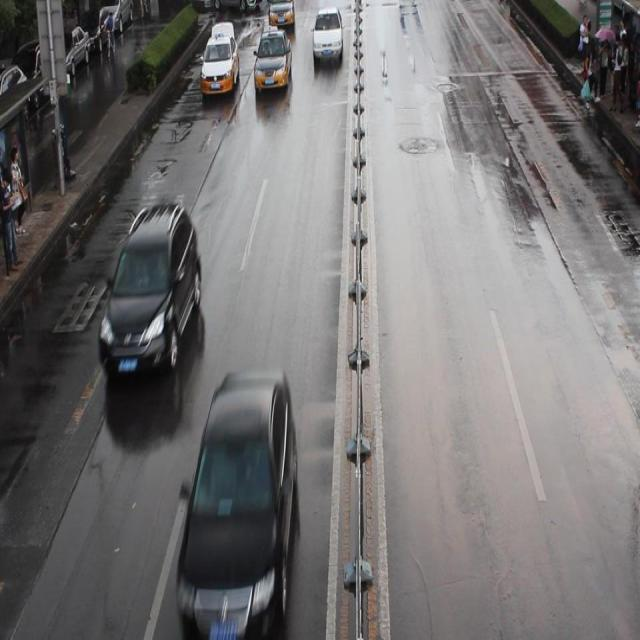car: (175, 367, 298, 634), (99, 203, 202, 380), (199, 36, 239, 97), (253, 27, 291, 89), (310, 8, 342, 59), (268, 1, 294, 27), (198, 1, 264, 11)
